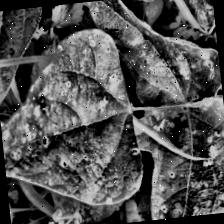Bean Rust: (0, 27, 143, 217), (59, 0, 223, 117), (136, 98, 224, 221)
